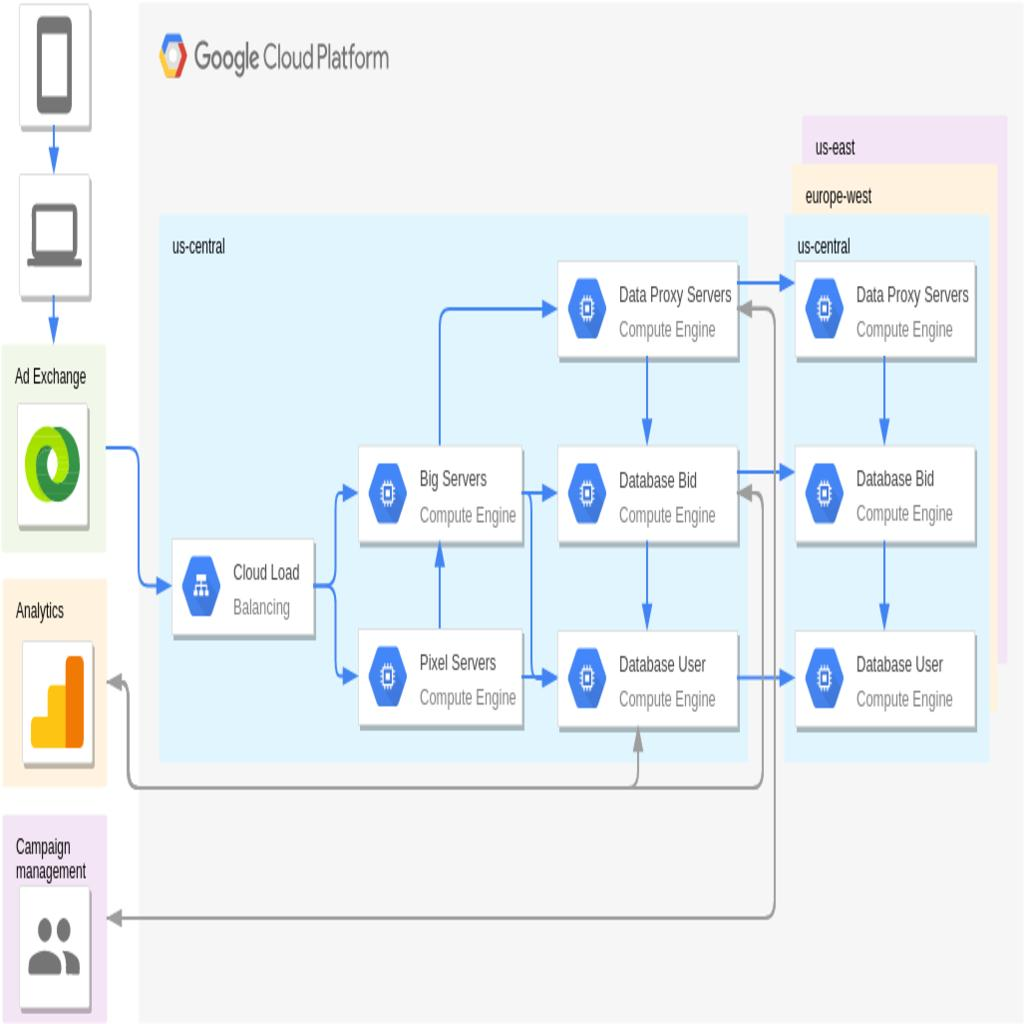actor: (6, 349, 106, 552), (6, 810, 106, 1013), (6, 580, 106, 782), (18, 13, 92, 130), (18, 177, 92, 294)
api_gateway: (173, 536, 314, 636)
compute: (556, 260, 738, 358), (794, 260, 976, 358), (556, 448, 738, 545), (794, 448, 976, 545), (556, 628, 738, 724), (794, 628, 976, 724), (358, 448, 524, 545), (358, 628, 524, 724)
data_flow: (118, 758, 773, 983), (126, 750, 766, 786), (438, 310, 556, 438), (104, 443, 172, 591), (315, 486, 351, 681), (644, 542, 650, 629), (644, 356, 650, 432), (882, 542, 887, 629), (438, 550, 443, 628), (882, 356, 887, 432), (53, 294, 58, 350), (740, 468, 786, 474), (740, 279, 786, 284), (740, 674, 786, 678), (53, 130, 58, 166), (524, 494, 550, 499), (524, 674, 550, 678)
trust_boundary: (159, 213, 748, 766), (794, 97, 1018, 763), (788, 159, 1004, 763), (784, 213, 988, 766)
